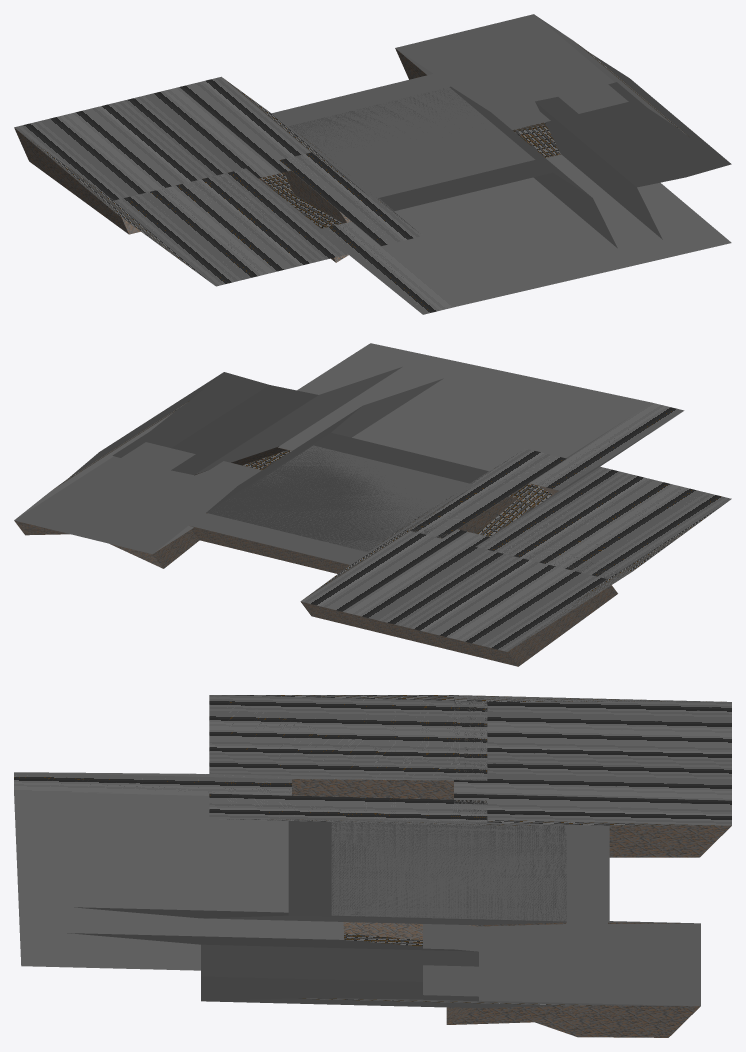
The model's file is TestMap.glb.
The picture shows the model from 3 angles, top to bottom: view 1: azimuth 30°, elevation 25°; view 2: azimuth 150°, elevation 25°; view 3: azimuth 270°, elevation 25°; orthographic projection. The views are drawn at different scales.
Parts seen in each view (by area): view 1: Plane; view 2: Plane; view 3: Plane.
Part boxes in pixels (<box>): Plane: <box>14,14,731,314</box>; Plane: <box>14,343,731,666</box>; Plane: <box>14,695,731,1037</box>.
Bounding box in the file's own units: 45.44 × 2.16 × 43.91.
2 materials, 2 textured.
